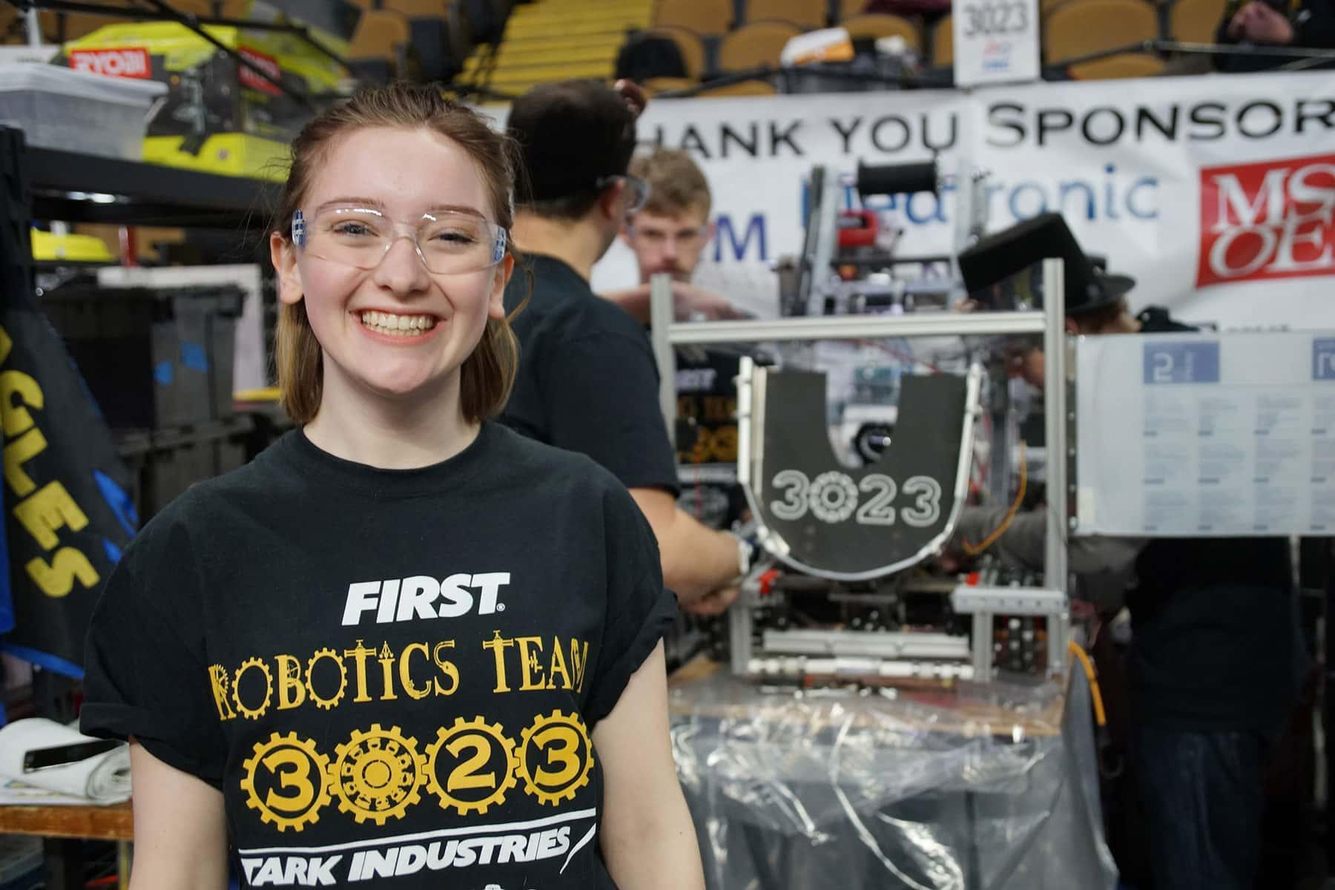robot: (637, 153, 1082, 701)
